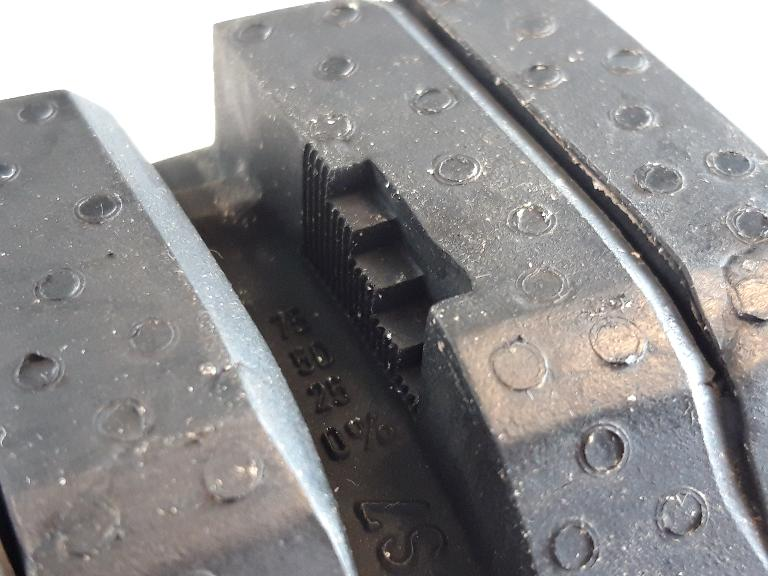temoin:100: (287, 131, 495, 434)
